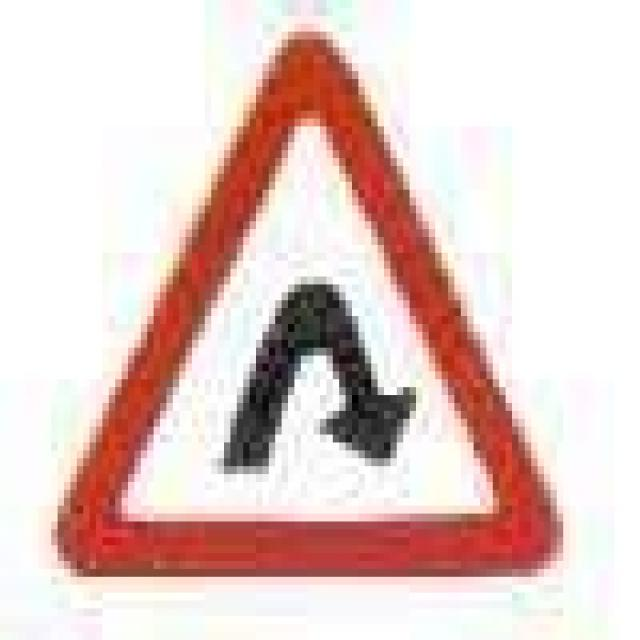RIGHT_HAIR_PIN_BEND: (56, 26, 552, 582)
